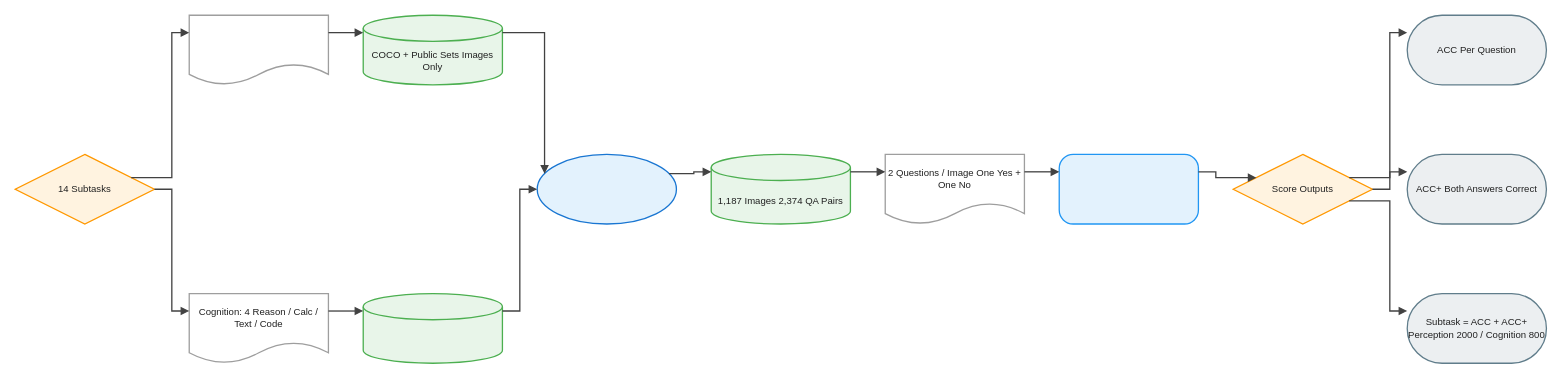
Some shapes in this 1563 by 379 pixel diagram are drawn without their labels. The centre of each missing label's shape, as x and y in pixels:
"All QA Manually Written No Source Annotations" goes at pixel 606 188.
"Manual Photos + Diffusion Images" goes at pixel 432 328.
"Perception: 10 Recognition + OCR" goes at pixel 258 49.
"Zero-shot Prompt “Answer yes or no”" goes at pixel 1128 188.
